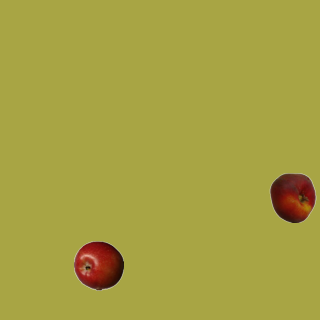Apple Braeburn: (73, 240, 123, 290)
Nectarine Flat: (267, 172, 317, 222)
